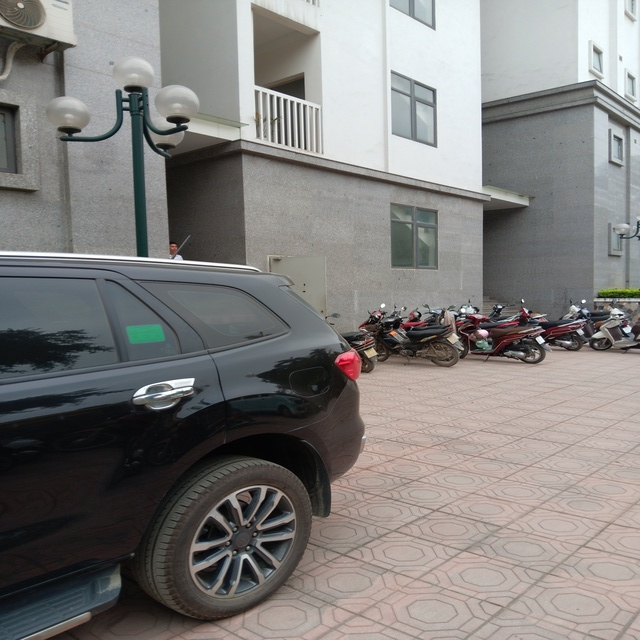cotden: (50, 54, 213, 269)
